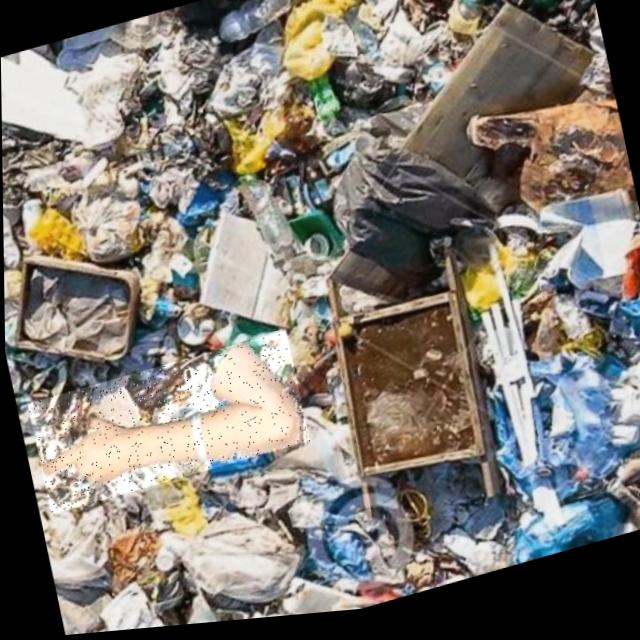Person in Rubble: (26, 333, 309, 515)
